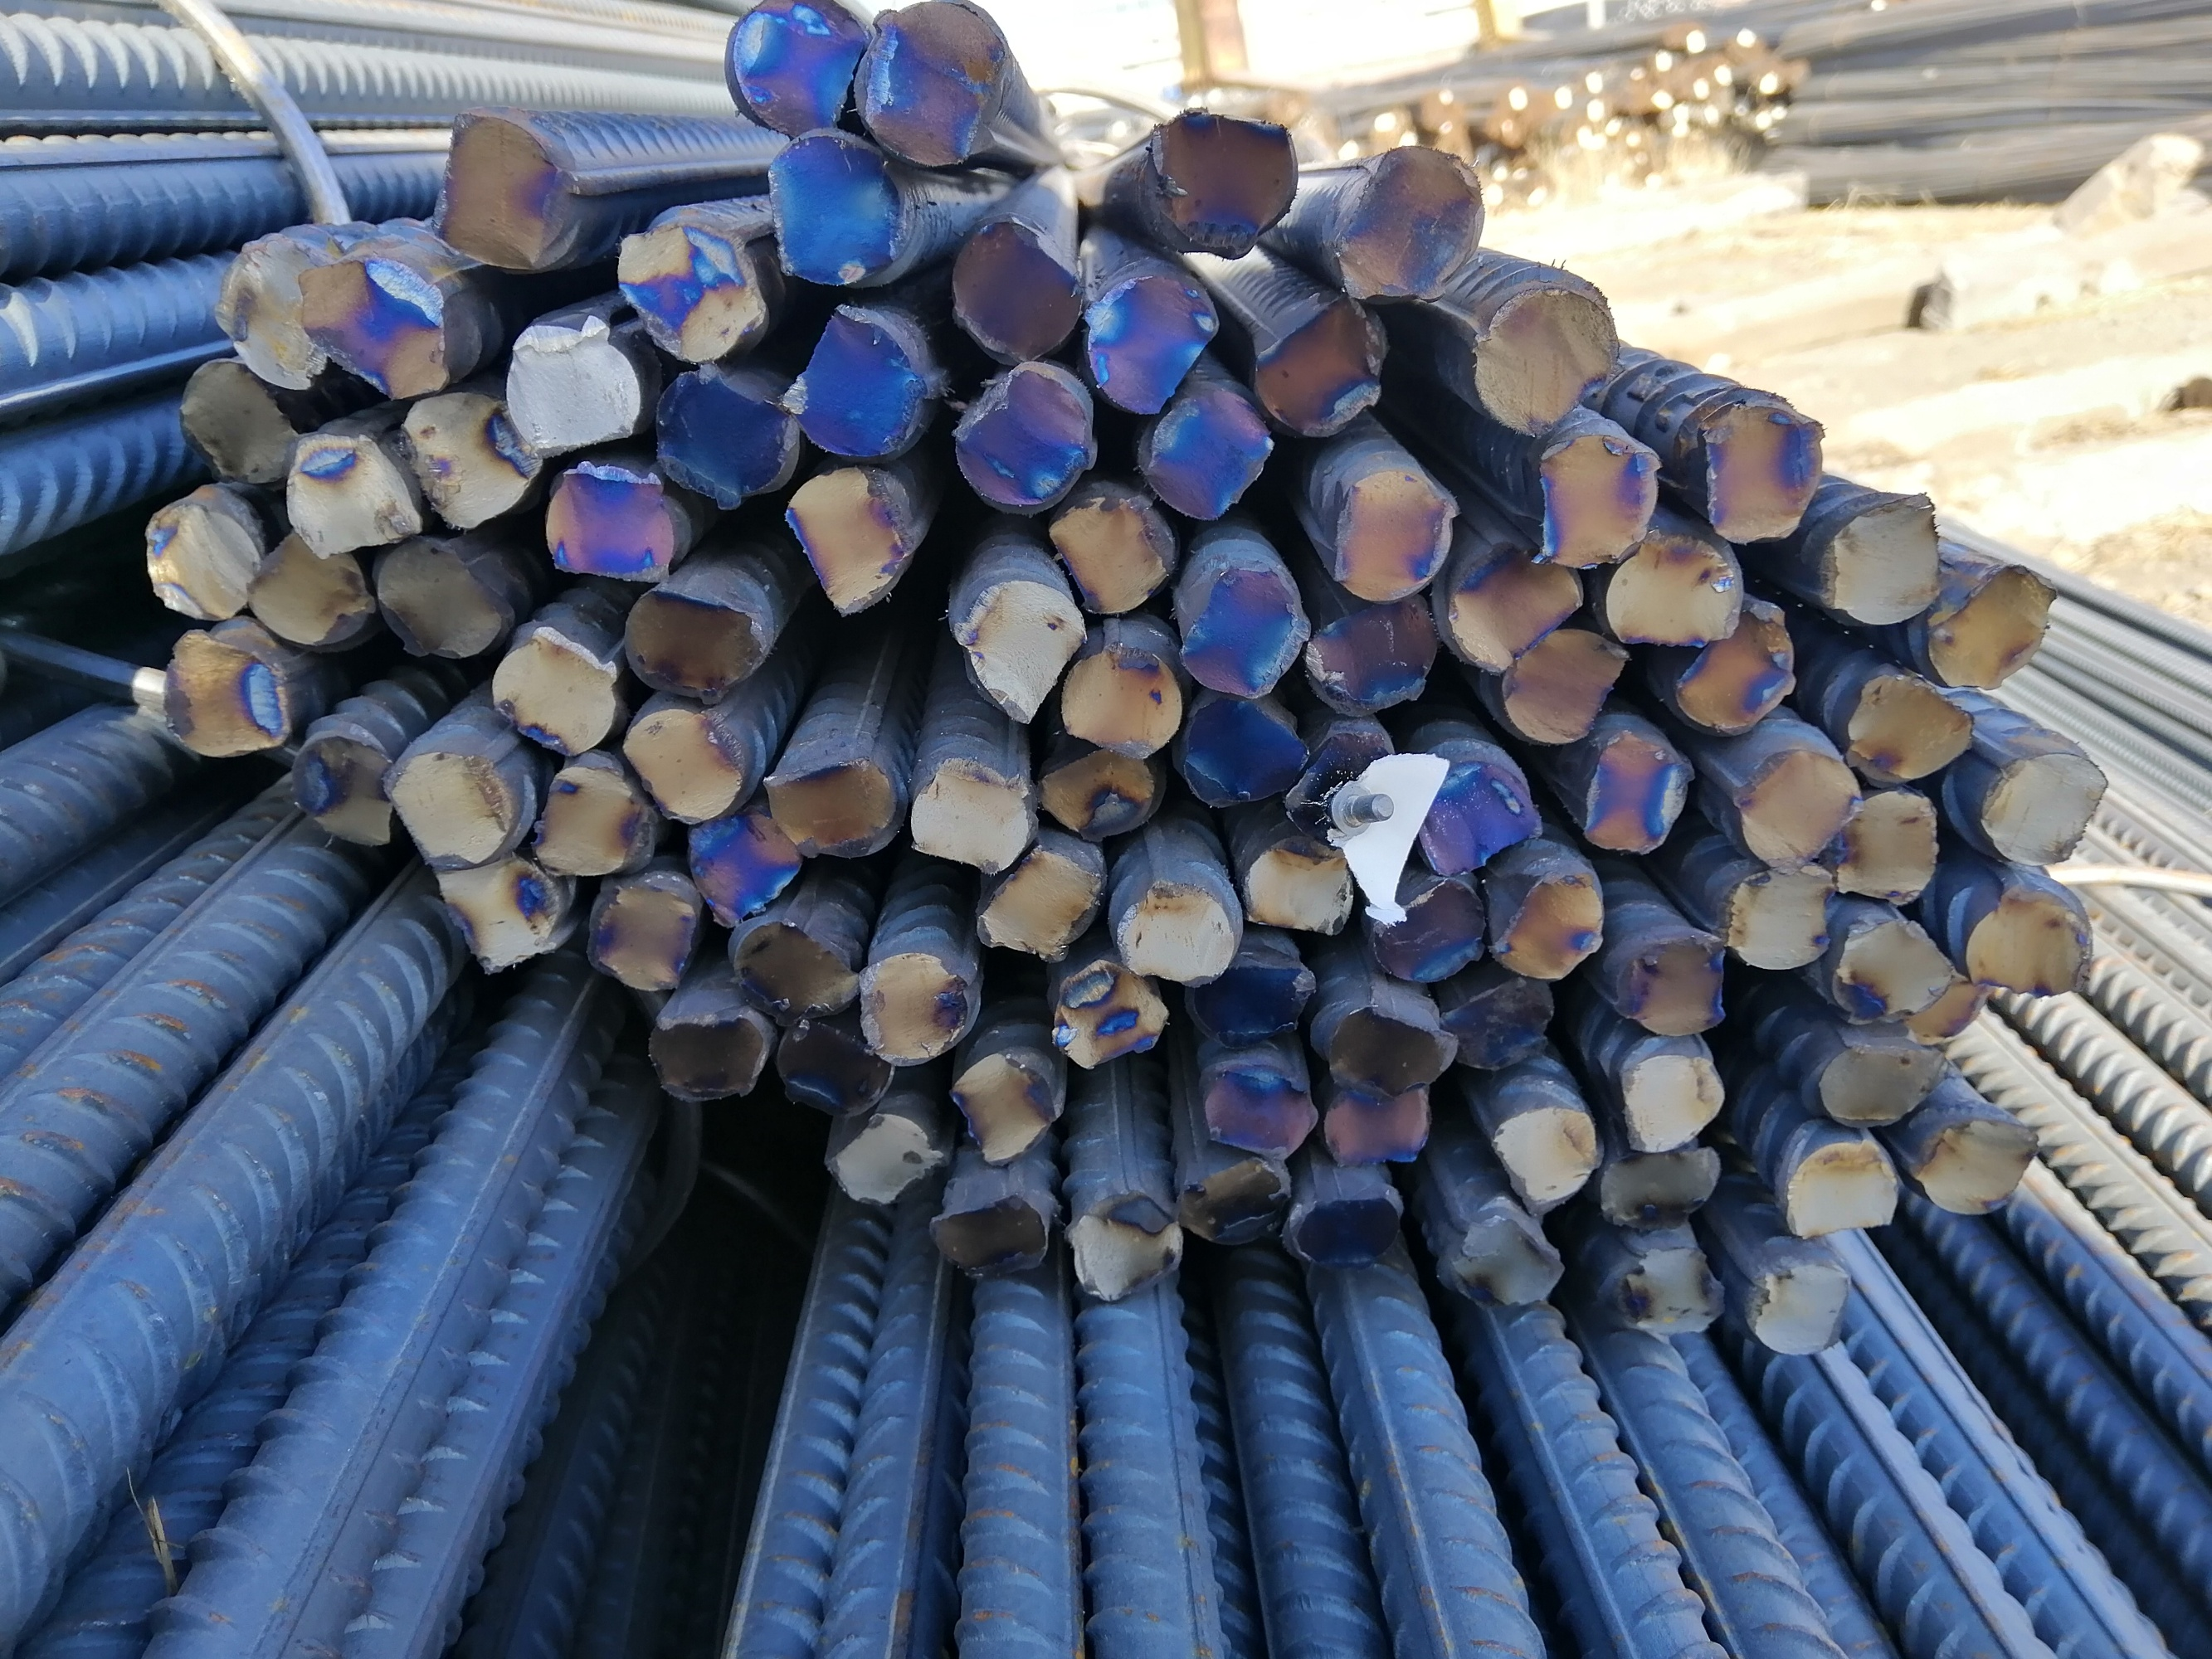rebar: (849, 0, 1006, 173), (608, 207, 776, 368), (1468, 270, 1625, 441), (1335, 139, 1489, 303), (295, 247, 460, 399), (432, 105, 577, 272), (788, 300, 929, 465), (1154, 103, 1302, 260), (762, 129, 906, 288), (1131, 382, 1283, 528), (952, 364, 1093, 519), (499, 307, 643, 457), (1696, 382, 1829, 544), (1440, 530, 1588, 674), (389, 389, 540, 530), (1534, 422, 1668, 580), (214, 220, 336, 394), (779, 465, 926, 610), (718, 0, 865, 145), (1088, 265, 1225, 418), (648, 364, 797, 505), (952, 577, 1089, 725), (952, 209, 1086, 361), (622, 572, 767, 706), (537, 451, 678, 587), (1309, 589, 1450, 725), (1926, 549, 2057, 695), (275, 425, 417, 559), (1175, 558, 1306, 702), (157, 627, 295, 763), (1727, 741, 1865, 877), (1818, 484, 1944, 633), (901, 742, 1035, 878), (1320, 467, 1454, 603), (1600, 528, 1747, 652), (1259, 293, 1389, 430), (1964, 875, 2100, 1006), (380, 742, 519, 870), (370, 535, 511, 660), (490, 626, 622, 758), (1283, 720, 1412, 856), (1401, 753, 1539, 880), (1048, 483, 1173, 622), (1497, 619, 1630, 746), (1677, 596, 1801, 732), (429, 854, 565, 976), (1039, 948, 1171, 1072), (178, 352, 300, 486), (521, 760, 652, 884), (1848, 664, 1978, 788), (1977, 749, 2111, 870), (143, 495, 263, 627), (617, 704, 750, 824), (971, 840, 1105, 958), (1182, 681, 1300, 816), (852, 946, 980, 1070), (1055, 634, 1184, 756), (1114, 870, 1245, 988), (682, 807, 804, 931), (251, 525, 370, 652), (1494, 863, 1614, 986), (765, 756, 903, 864), (943, 1044, 1062, 1169), (1710, 857, 1835, 976), (1834, 915, 1956, 1035), (582, 873, 699, 999), (1449, 1201, 1576, 1316), (1365, 868, 1487, 986), (1815, 1026, 1945, 1136), (1921, 1103, 2045, 1218), (1581, 735, 1694, 861), (1065, 1185, 1184, 1304), (1605, 927, 1731, 1039), (1835, 779, 1945, 906), (289, 721, 399, 847), (1199, 1058, 1321, 1166), (736, 915, 861, 1019), (1239, 828, 1356, 939), (1781, 1138, 1900, 1246), (812, 1110, 947, 1204), (1187, 953, 1316, 1051), (1327, 999, 1457, 1094), (924, 1194, 1056, 1286), (1443, 976, 1560, 1080), (645, 1011, 769, 1108), (1605, 1239, 1736, 1331), (1616, 1051, 1727, 1157), (1494, 1100, 1600, 1211), (1039, 741, 1156, 842), (776, 1016, 896, 1114), (1740, 1260, 1856, 1358), (1175, 1154, 1290, 1251), (1604, 1143, 1726, 1234), (1325, 1077, 1435, 1173), (1290, 1187, 1403, 1270), (1902, 965, 1999, 1042)
